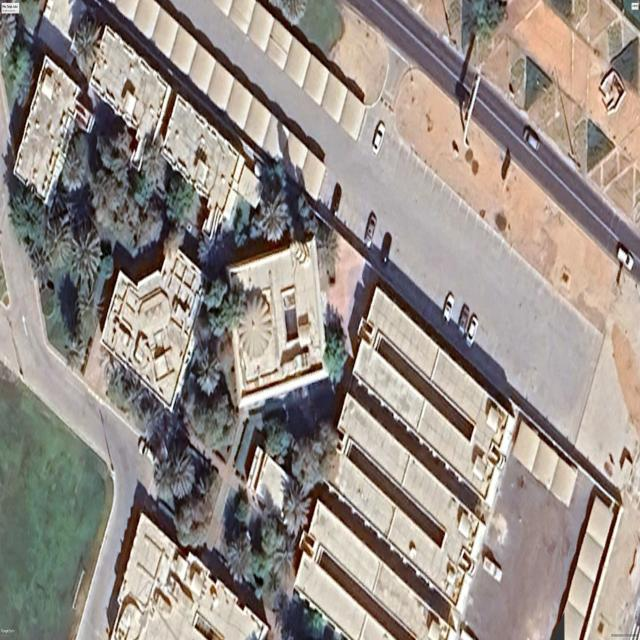mosque: (227, 237, 327, 408)
